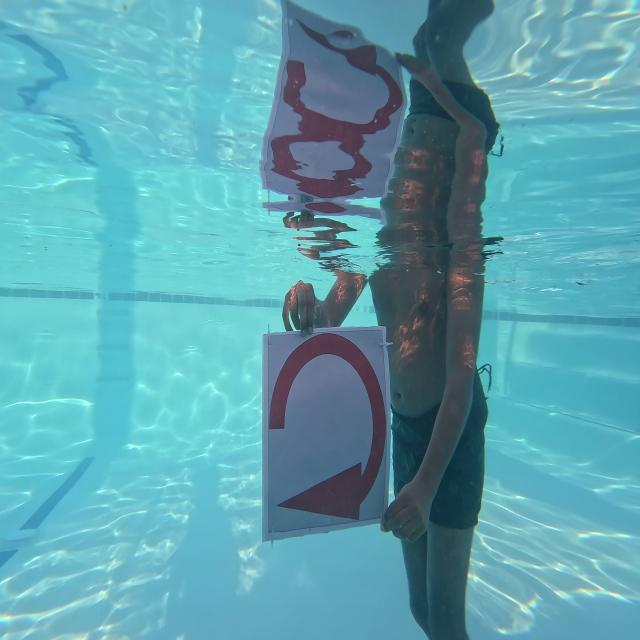red_side: (261, 310, 394, 529)
